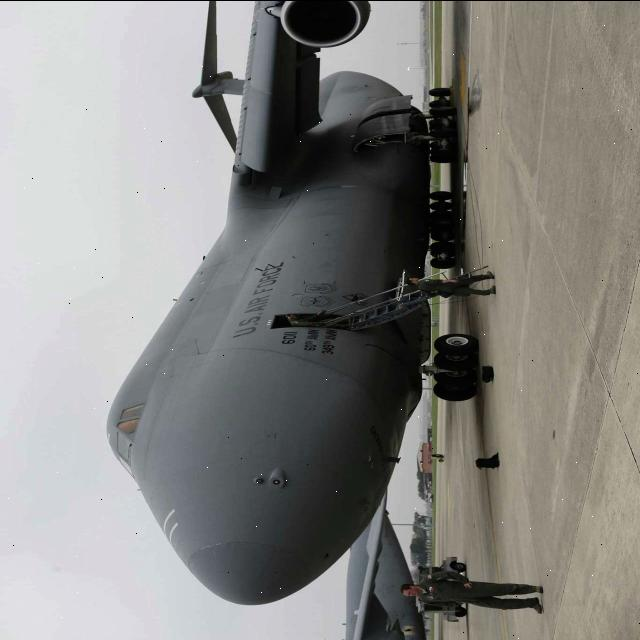C5: (98, 1, 498, 616)
